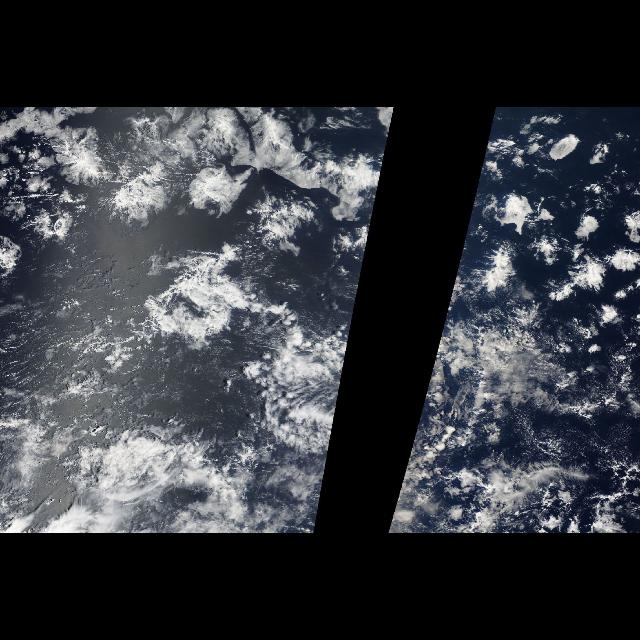Flower: (1, 109, 386, 254), (460, 112, 640, 404)
Sugar: (1, 274, 130, 424)
